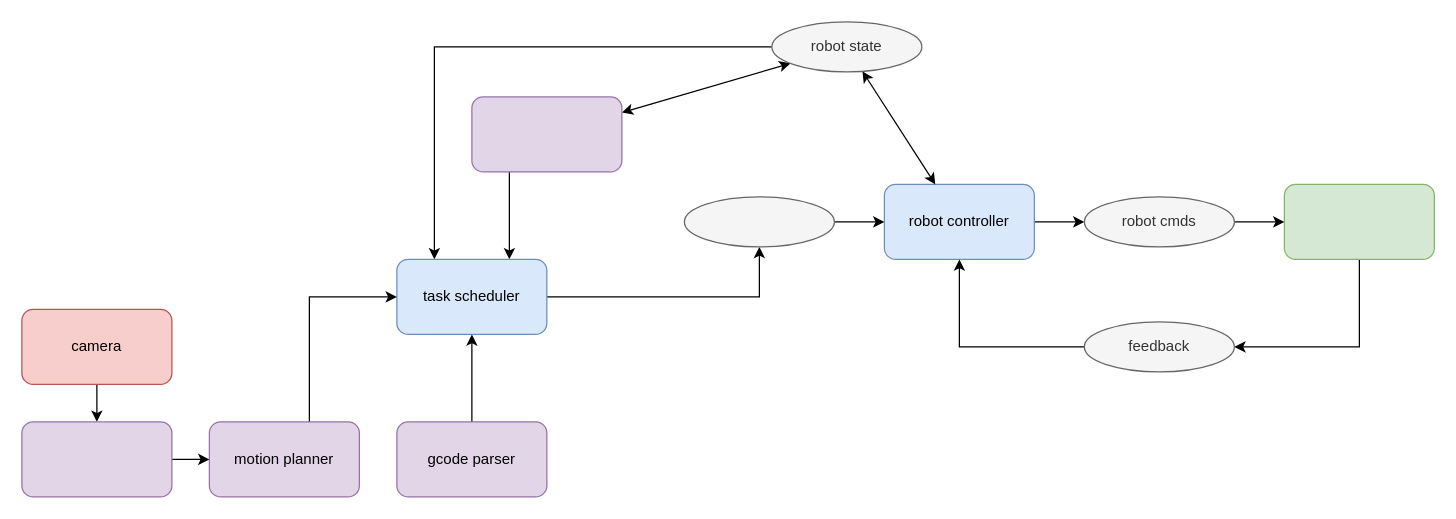
The diagram is 1456 pixels wide and 519 high, and some of its shapes have lost their labels. The box of each missing label's shape, as (x1, y1, x2, y2) in pixels:
graphical user interace: (471, 96, 622, 172)
input cmds: (683, 196, 834, 247)
micro controller: (1283, 183, 1434, 259)
object detection: (21, 421, 172, 497)
